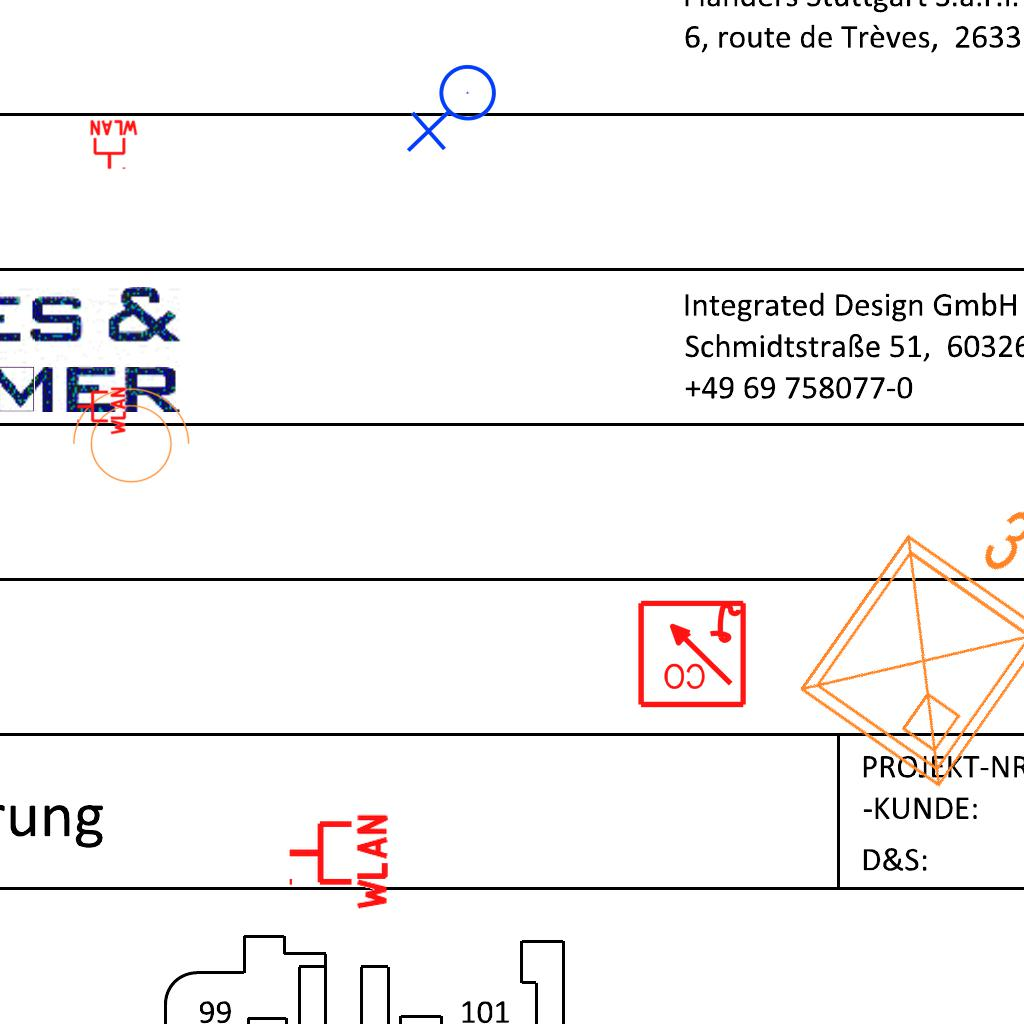Einbaudownlights_LED_Konferenzraeume: (772, 442, 1024, 808)
Elektroanschluss_allgemein_230V_Geraeteanschlussdose_230V: (406, 63, 505, 157)
ROA_Rauchmelder_optisch_mit_Signalgeber_(Sockelsirene): (635, 596, 748, 709)
Scheinwerfer_fuer_Alarmbeleuchtung: (62, 383, 194, 495)
WLAN: (285, 810, 390, 914), (88, 119, 140, 171), (75, 385, 127, 437)
